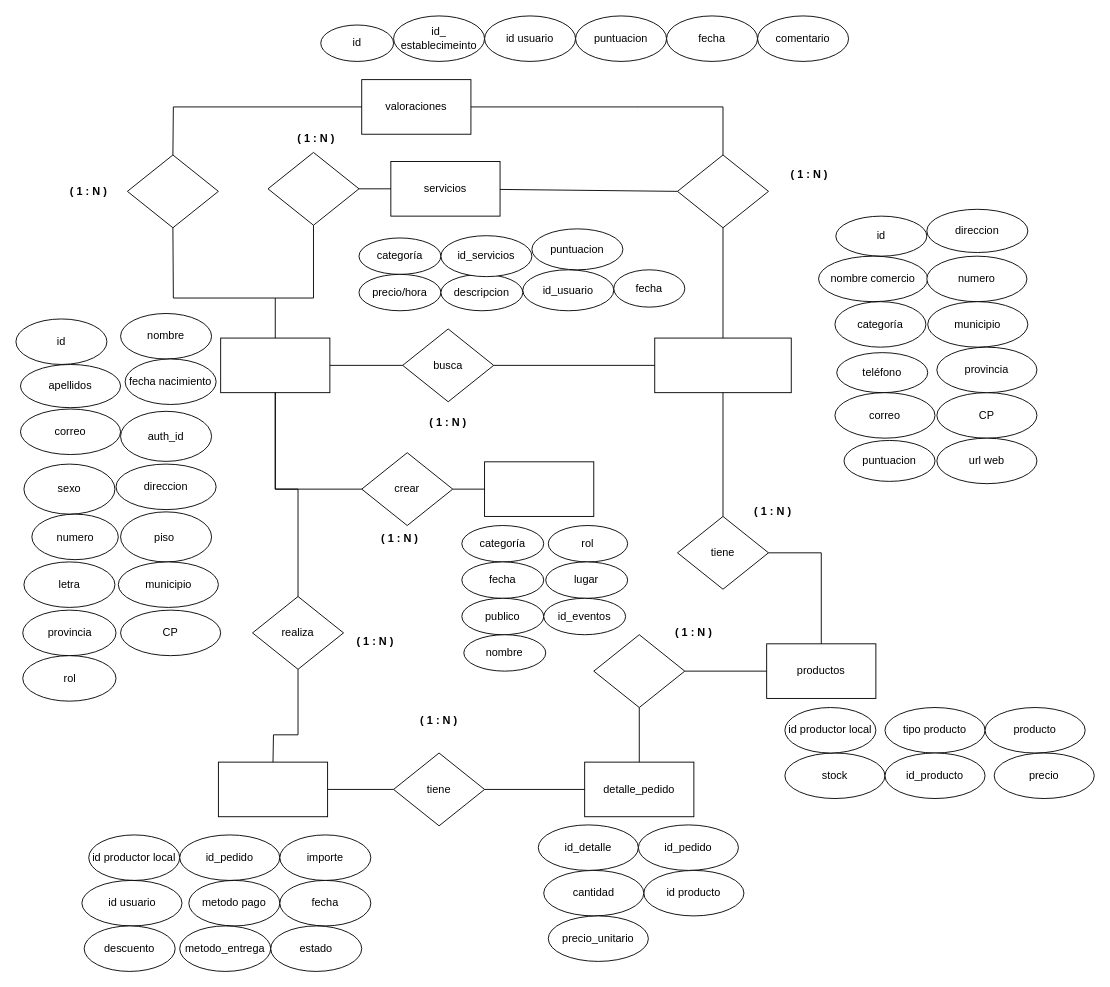
This 1110x987 diagram has some shape labels left out. The centre of each missing label's shape, as x and y in pixels:
"escribe" goes at (x=172, y=191).
"establecimiento" goes at (x=722, y=365).
"está" goes at (x=639, y=671).
"eventos" goes at (x=539, y=488).
"ofrecer" goes at (x=313, y=188).
"pedido" goes at (x=272, y=789).
"puntuan" goes at (x=722, y=191).
"usuario" goes at (x=275, y=365).
